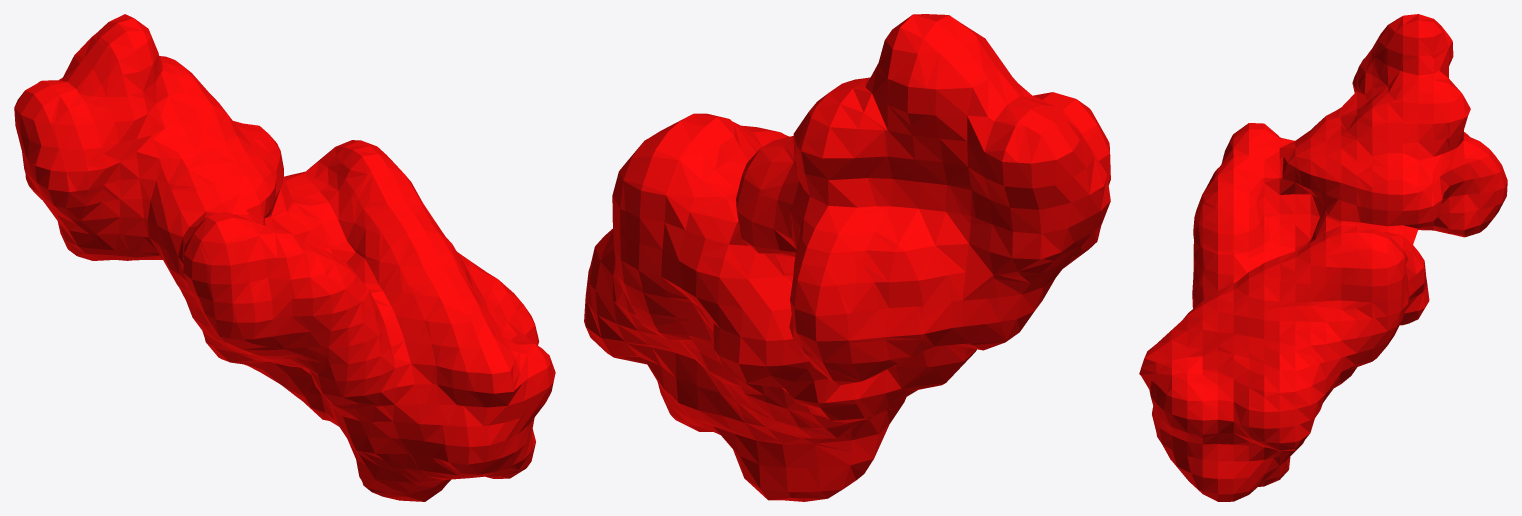
Rendered from lptF_coarse.dae.
The picture shows the model from 3 angles, left to right: view 1: azimuth 30°, elevation 25°; view 2: azimuth 150°, elevation 25°; view 3: azimuth 270°, elevation 25°; orthographic projection. The views are drawn at different scales.
Visible parts, largest first — view 1: lptF; view 2: lptF; view 3: lptF.
Boxes of the visible parts, x1,y1,x2,y2 form: lptF: (14,14,555,501); lptF: (584,14,1110,501); lptF: (1139,14,1507,501).
Size of the model in its own units: 77.47 by 78.89 by 67.5.
